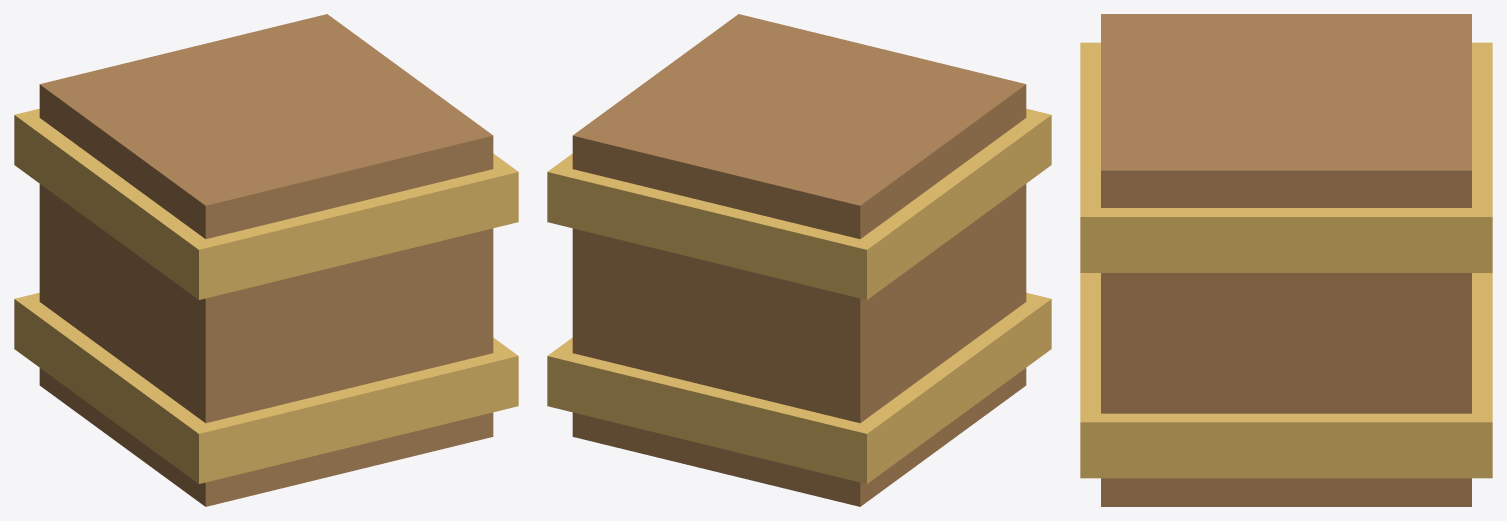
Rendered from tabletop-game-components-resource-cube-438a9711__20856.glb.
The picture shows the model from 3 angles, left to right: view 1: azimuth 30°, elevation 25°; view 2: azimuth 150°, elevation 25°; view 3: azimuth 270°, elevation 25°; orthographic projection. The views are drawn at different scales.
Parts seen in each view (by area): view 1: resource-cube; view 2: resource-cube; view 3: resource-cube.
Part boxes in pixels (<box>): resource-cube: <box>14,14,518,506</box>; resource-cube: <box>547,14,1051,506</box>; resource-cube: <box>1080,14,1492,506</box>.
Bounding box in the file's own units: 0.02 × 0.018 × 0.02.
